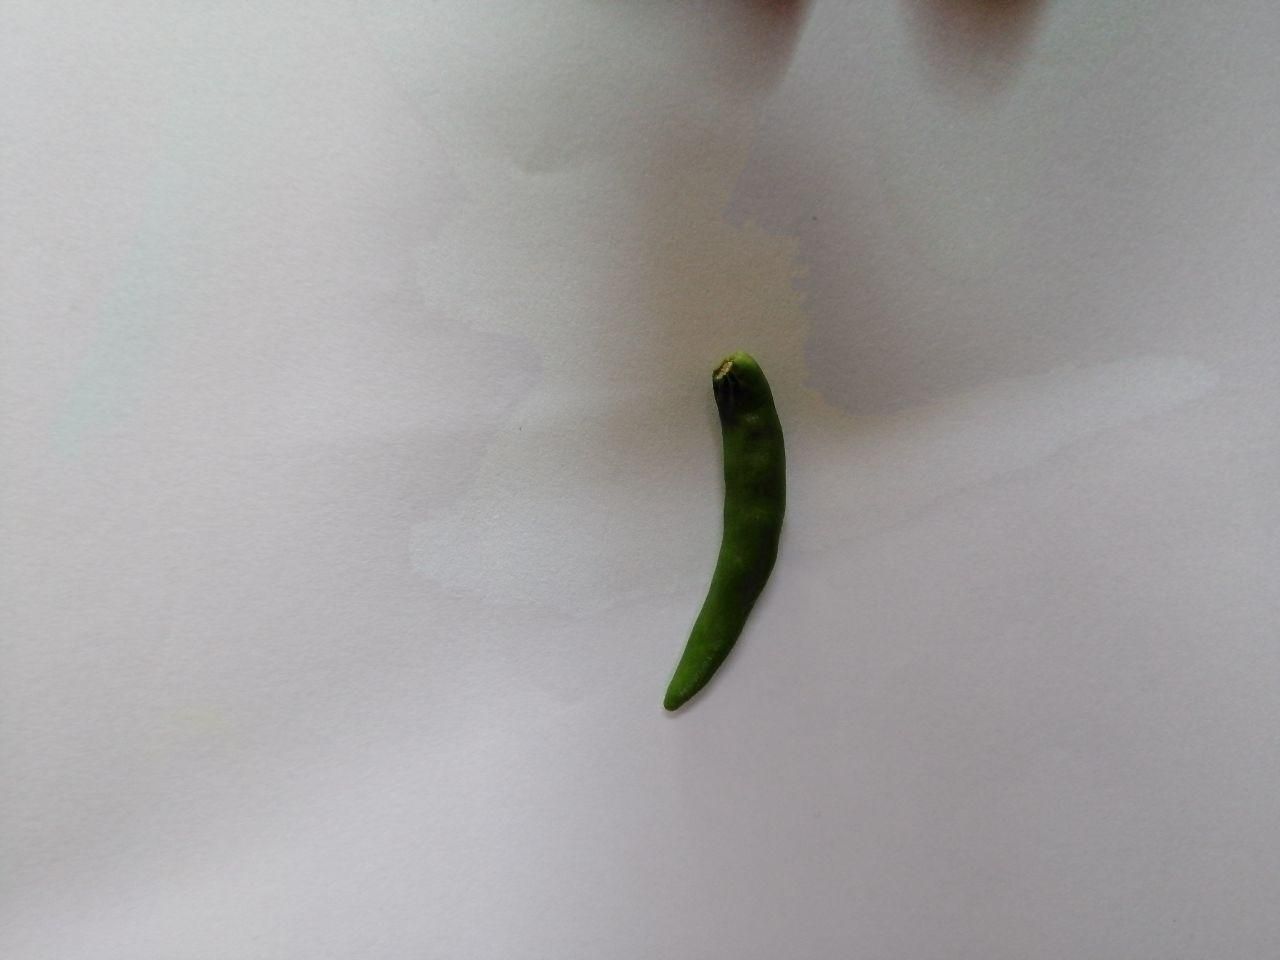lada hijau: (656, 336, 802, 734)
